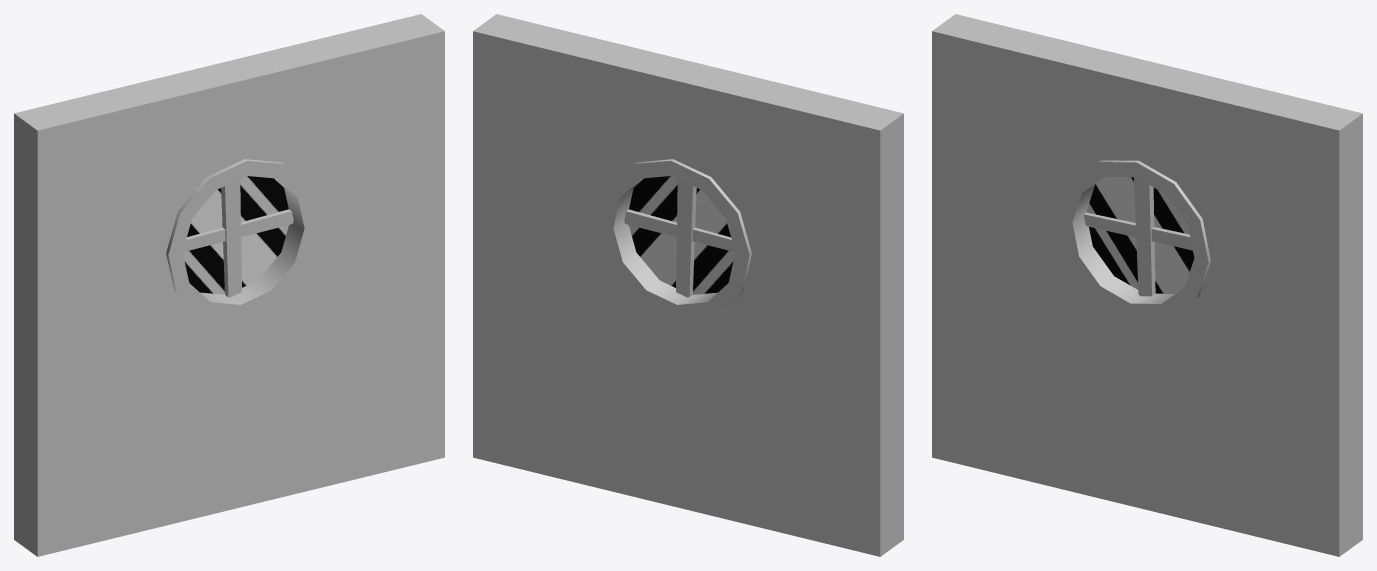
Rendered from window04.fbx.
3 renders of one model, left to right at view 1: azimuth 30°, elevation 25°; view 2: azimuth 150°, elevation 25°; view 3: azimuth 330°, elevation 25°, orthographic.
Visible parts, largest first — view 1: window04; view 2: window04; view 3: window04.
Boxes of the visible parts, bbox=[...] form: window04: bbox=[14, 14, 444, 556]; window04: bbox=[473, 14, 903, 556]; window04: bbox=[932, 14, 1362, 556].
Bounding box in the file's own units: 400 × 400 × 47.97.
